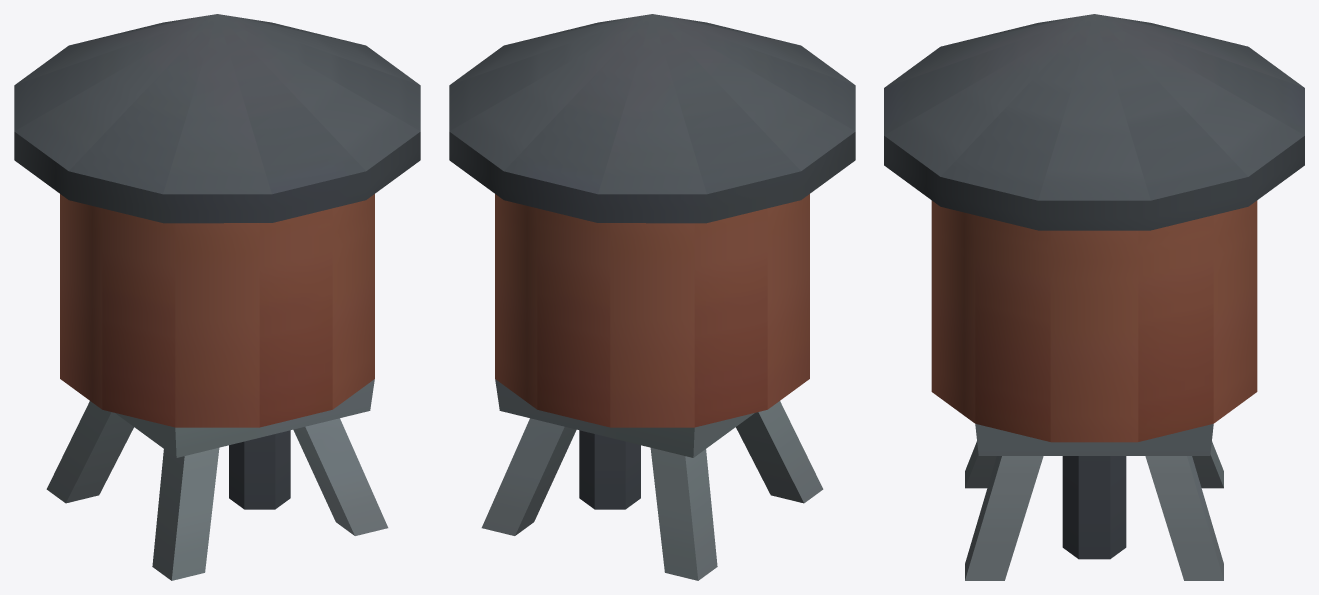
The model's file is kay-caixa-dagua.gltf.
The picture shows the model from 3 angles, left to right: view 1: azimuth 30°, elevation 25°; view 2: azimuth 150°, elevation 25°; view 3: azimuth 270°, elevation 25°; orthographic projection. The views are drawn at different scales.
Visible parts, largest first — view 1: watertower; view 2: watertower; view 3: watertower.
Boxes of the visible parts, x1,y1,x2,y2 form: watertower: (14,14,420,580); watertower: (449,14,855,580); watertower: (884,14,1304,580).
Bounding box in the file's own units: 2.49 × 3.35 × 2.49.
Materials: 1 (1 with a texture image).
